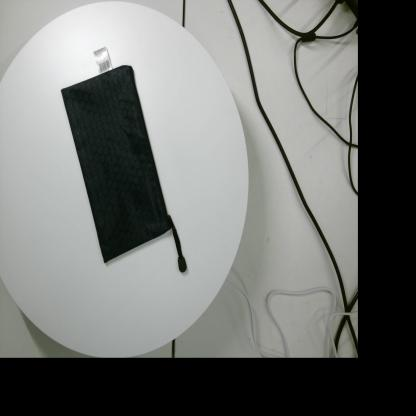Stationery: (61, 46, 187, 273)
